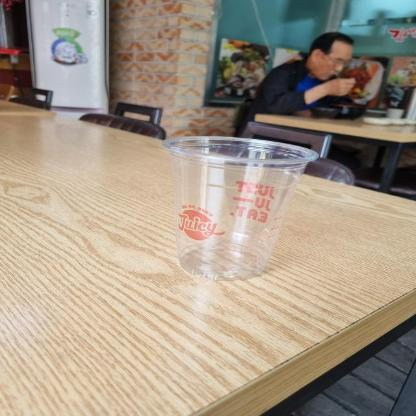Plastic Cup: (161, 134, 315, 280)
